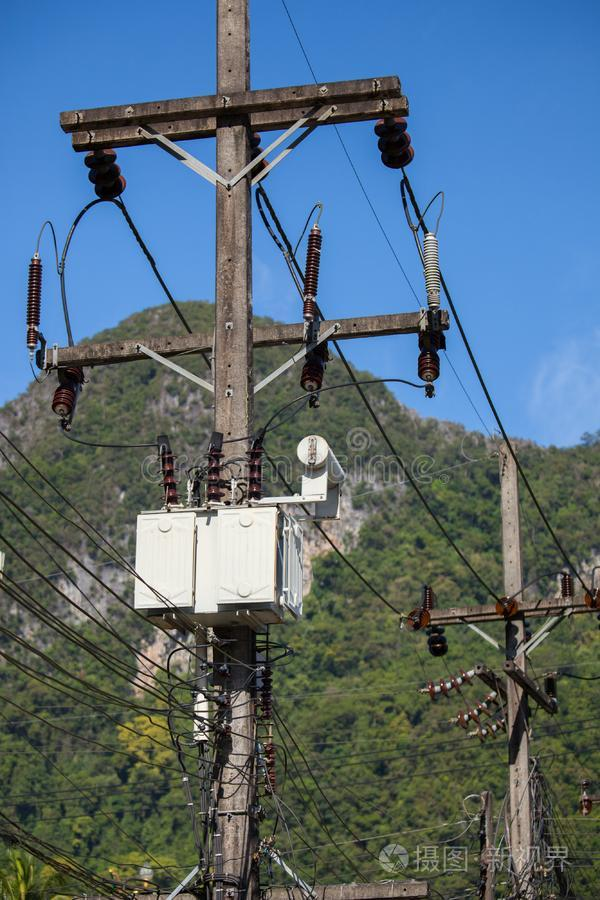insulator: (80, 148, 129, 200), (375, 115, 417, 170), (197, 448, 229, 505), (152, 452, 185, 507), (428, 668, 472, 703), (241, 448, 270, 497), (456, 692, 493, 728), (474, 717, 505, 745)
